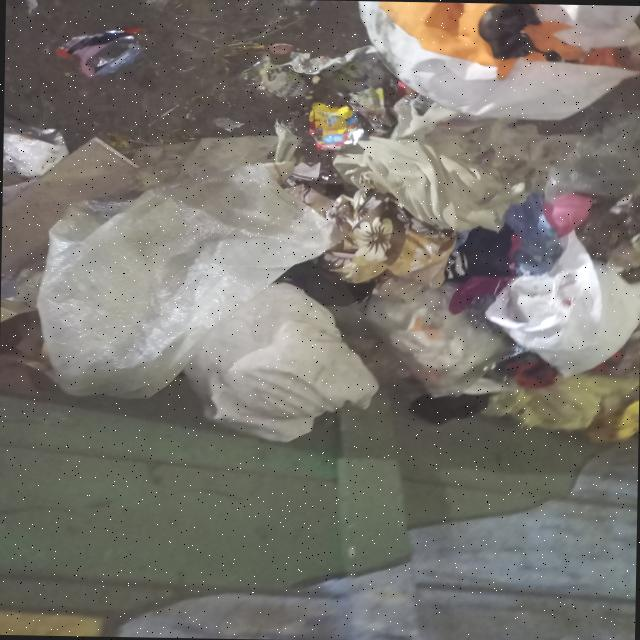garbage: (23, 0, 640, 436)
